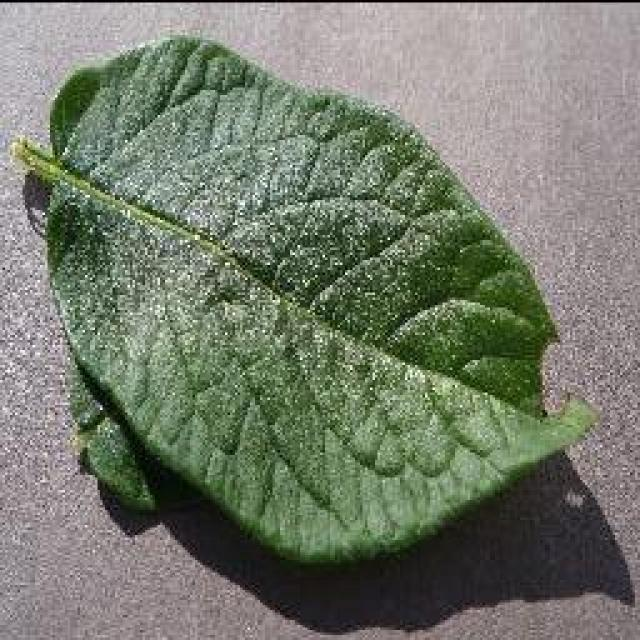Potato___healthy: (6, 33, 602, 567)
